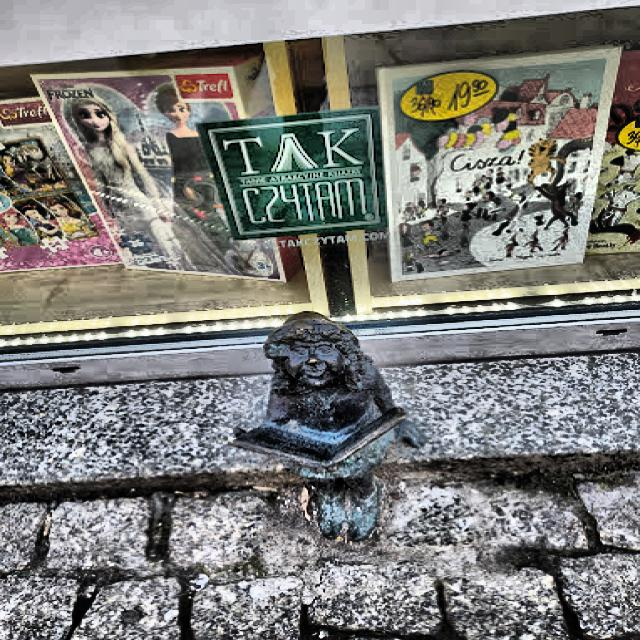Ksiegarka: (224, 306, 436, 548)
